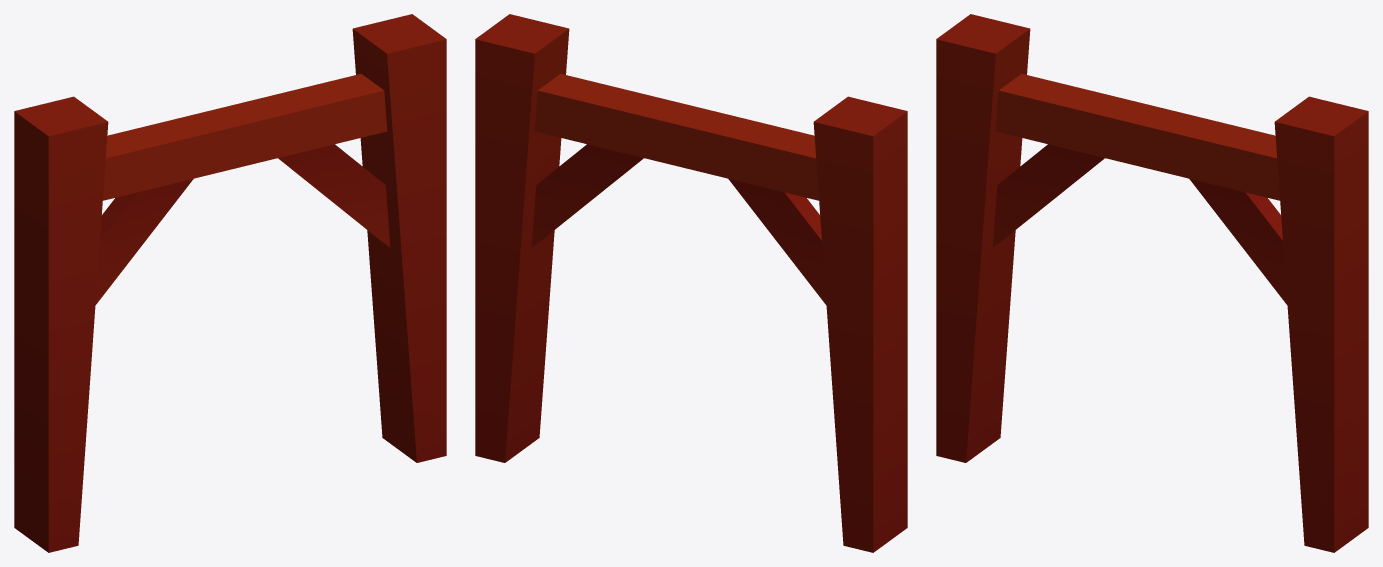
File: wood-support.fbx
3 renders of one model, left to right at view 1: azimuth 30°, elevation 25°; view 2: azimuth 150°, elevation 25°; view 3: azimuth 330°, elevation 25°, orthographic.
Visible parts, largest first — view 1: wood-support; view 2: wood-support; view 3: wood-support.
Boxes of the visible parts, bbox=[...] form: wood-support: bbox=[14, 14, 446, 552]; wood-support: bbox=[475, 14, 907, 552]; wood-support: bbox=[936, 14, 1368, 552].
Bounding box in the file's own units: 10 × 10 × 1.5.
